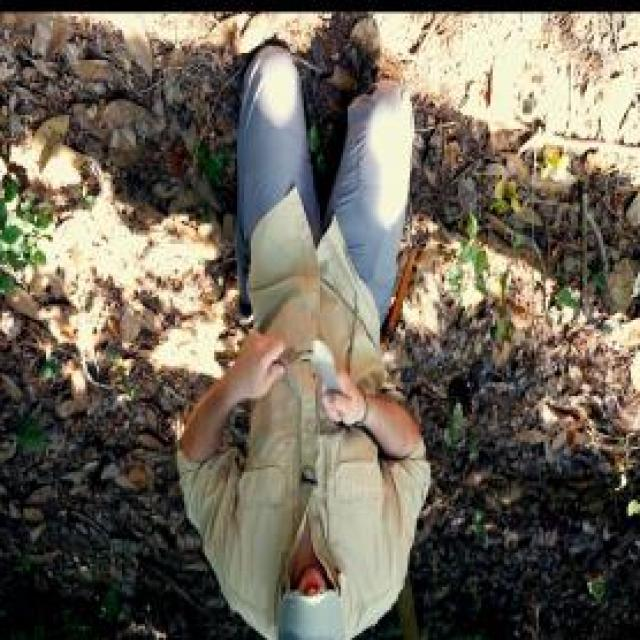knife: (305, 324, 361, 430)
